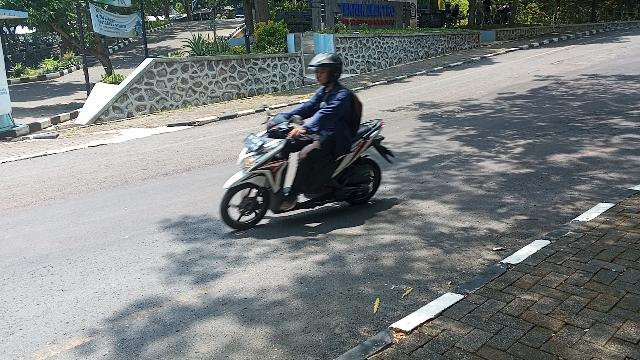helm: (310, 53, 344, 85)
motor: (222, 116, 397, 232)
